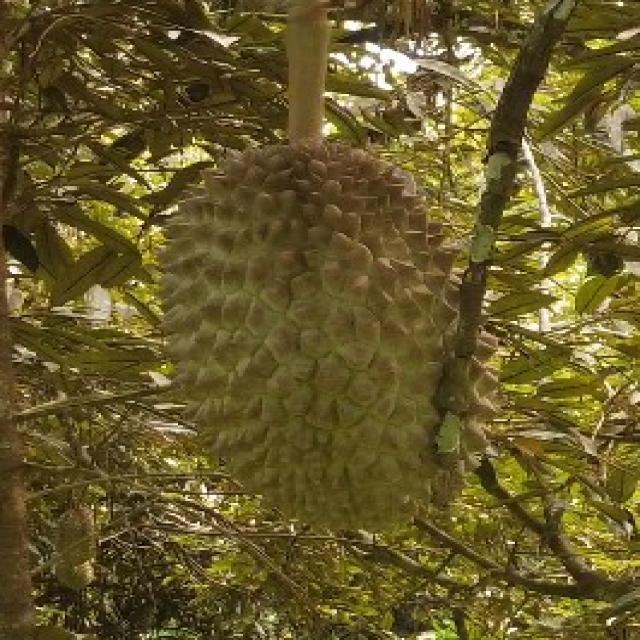mature: (155, 137, 501, 539)
